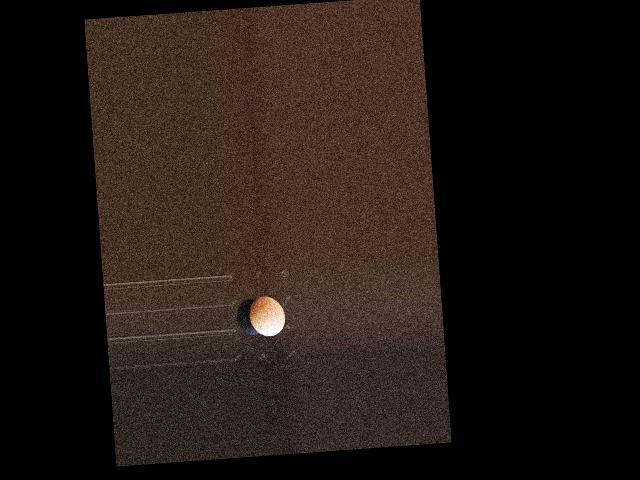egg: (247, 294, 286, 337)
